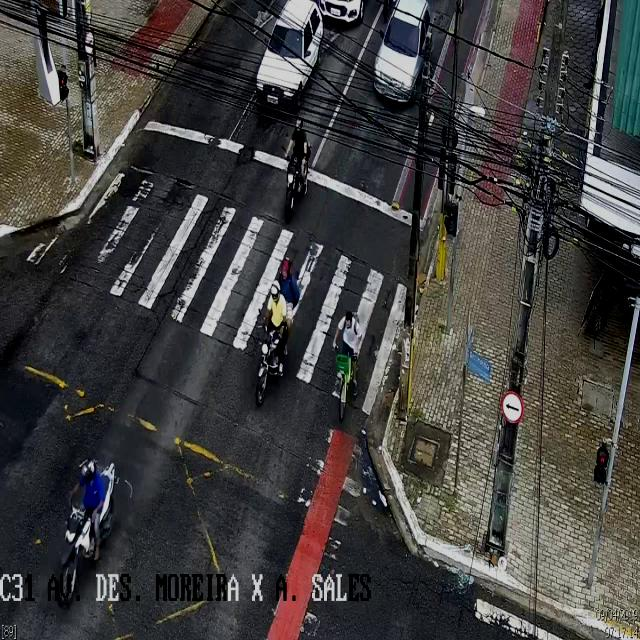Car: (261, 4, 324, 112), (372, 4, 428, 100), (309, 0, 371, 23)
Motorcycle: (59, 459, 119, 598), (255, 259, 299, 405), (282, 117, 312, 225)
